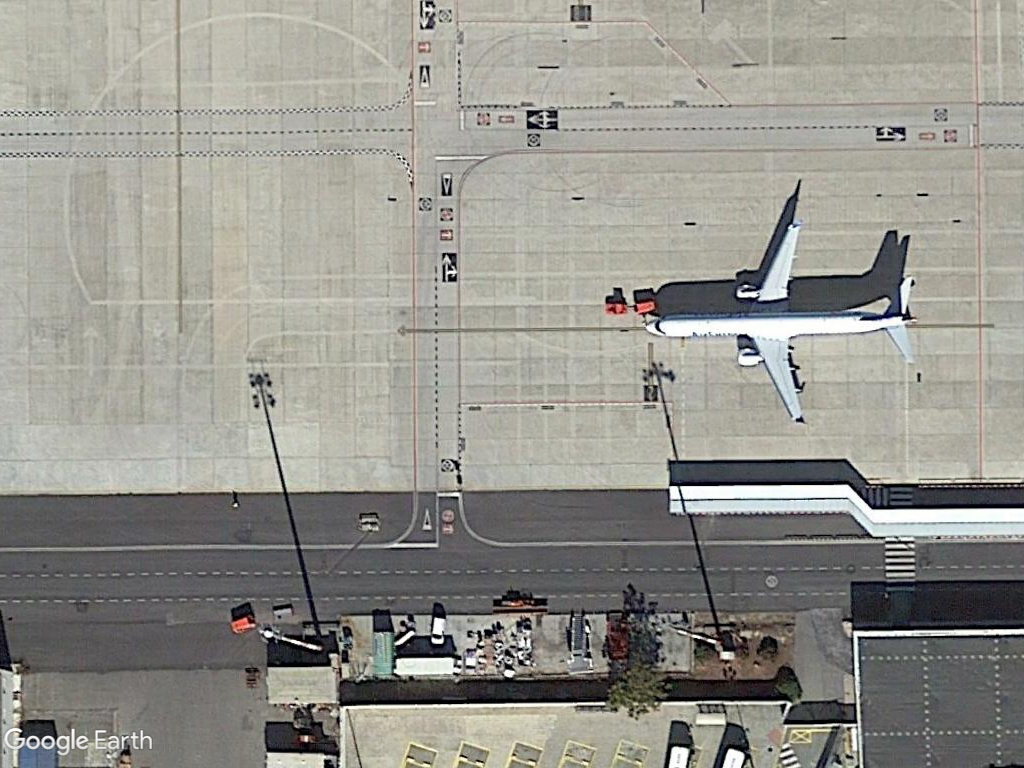airliner: (647, 210, 929, 428)
van: (423, 608, 450, 650)
